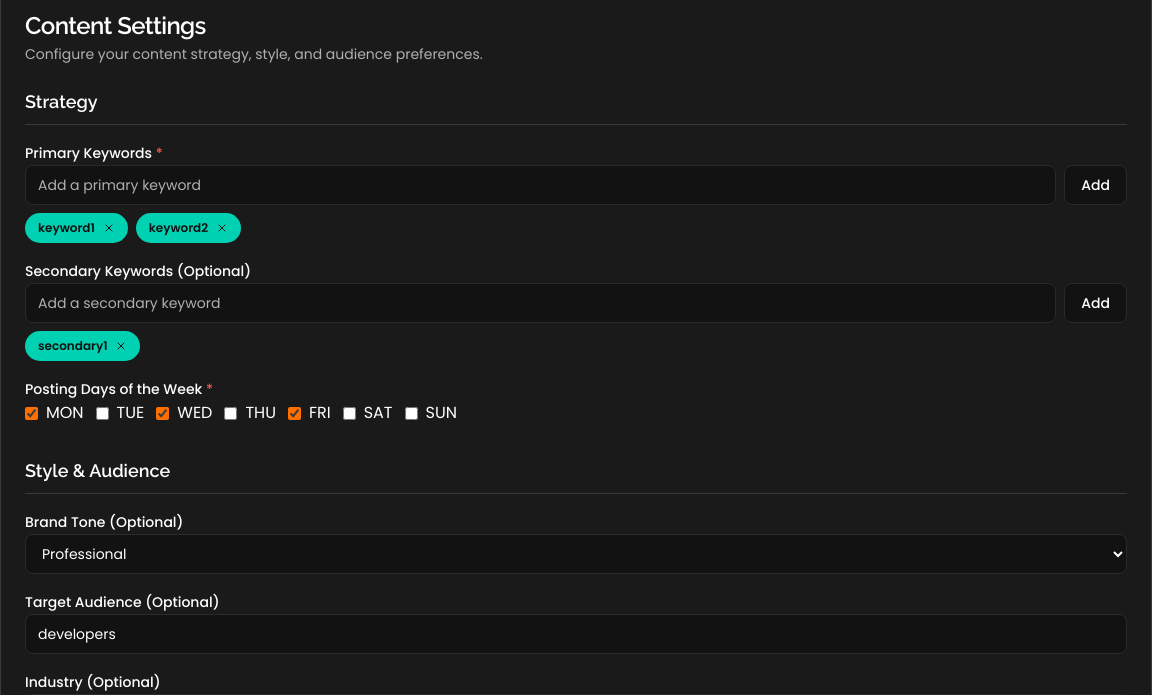
SettingsForm › reset button restores initial values and clears dirty state
# Change an input to make the form dirty
Replace the text in the field labelled "Target Audience (Optional)" with "designers". click: (576, 634)
box: [25,614,1127,654]
(page scrolled)
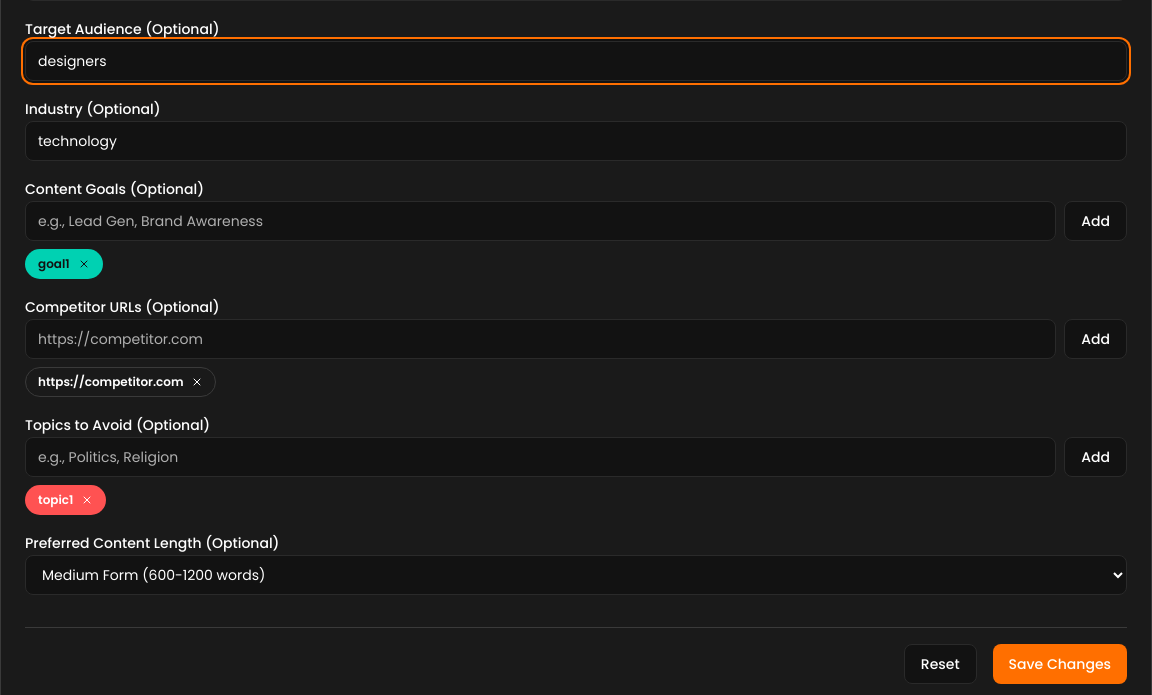
Now the button "Save Changes" is enabled, box [993,644,1127,684]
# Click reset
Click the button "Reset". click: (940, 664)
box: [904,644,977,684]
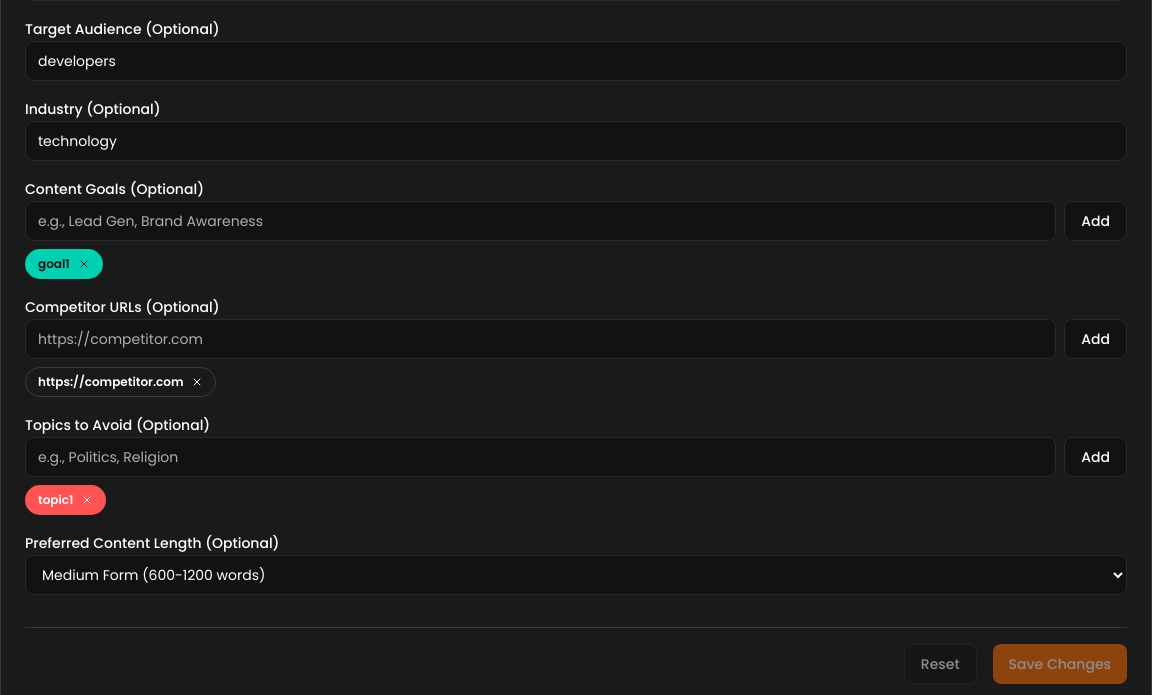
Now the field labelled "Target Audience (Optional)" holds "developers", box [25,41,1127,81]
Now the button "Save Changes" is disabled, box [993,644,1127,684]
